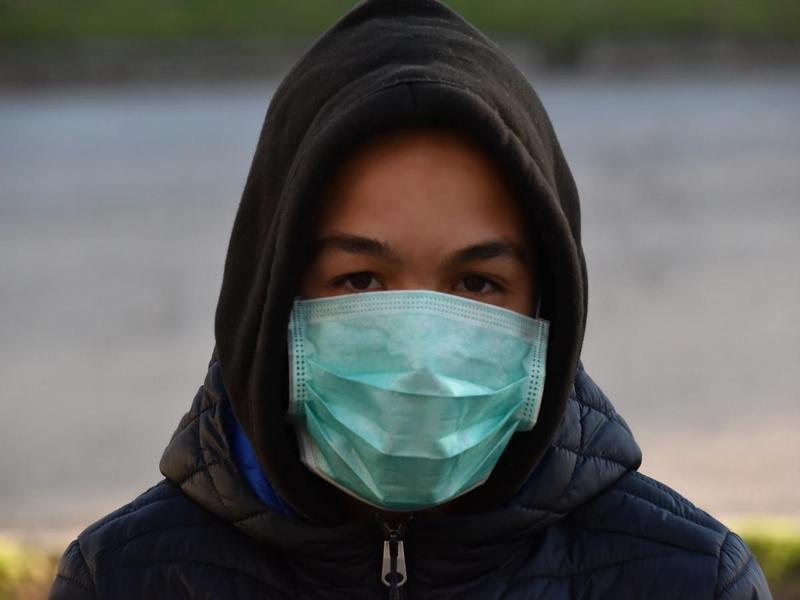with_mask: (284, 125, 550, 513)
